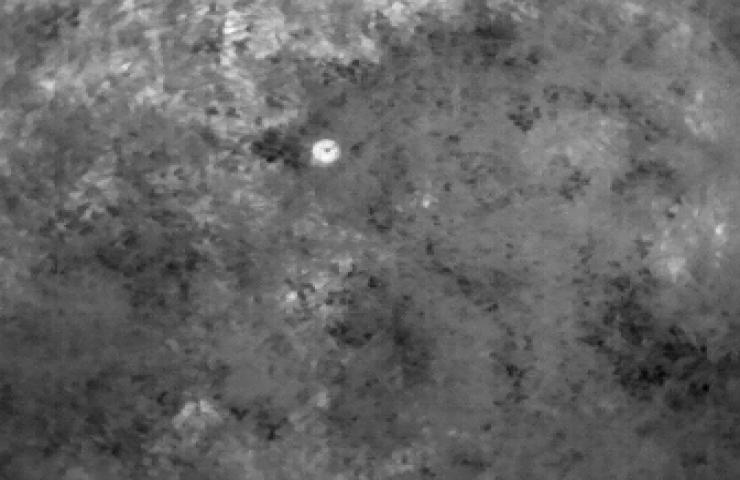landmines: (310, 137, 344, 166)
